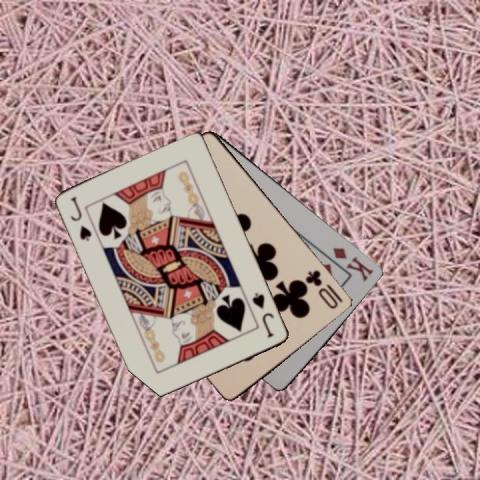10c: (302, 267, 344, 310)
Js: (249, 290, 276, 339), (68, 194, 93, 244)
Kd: (330, 244, 376, 283)
